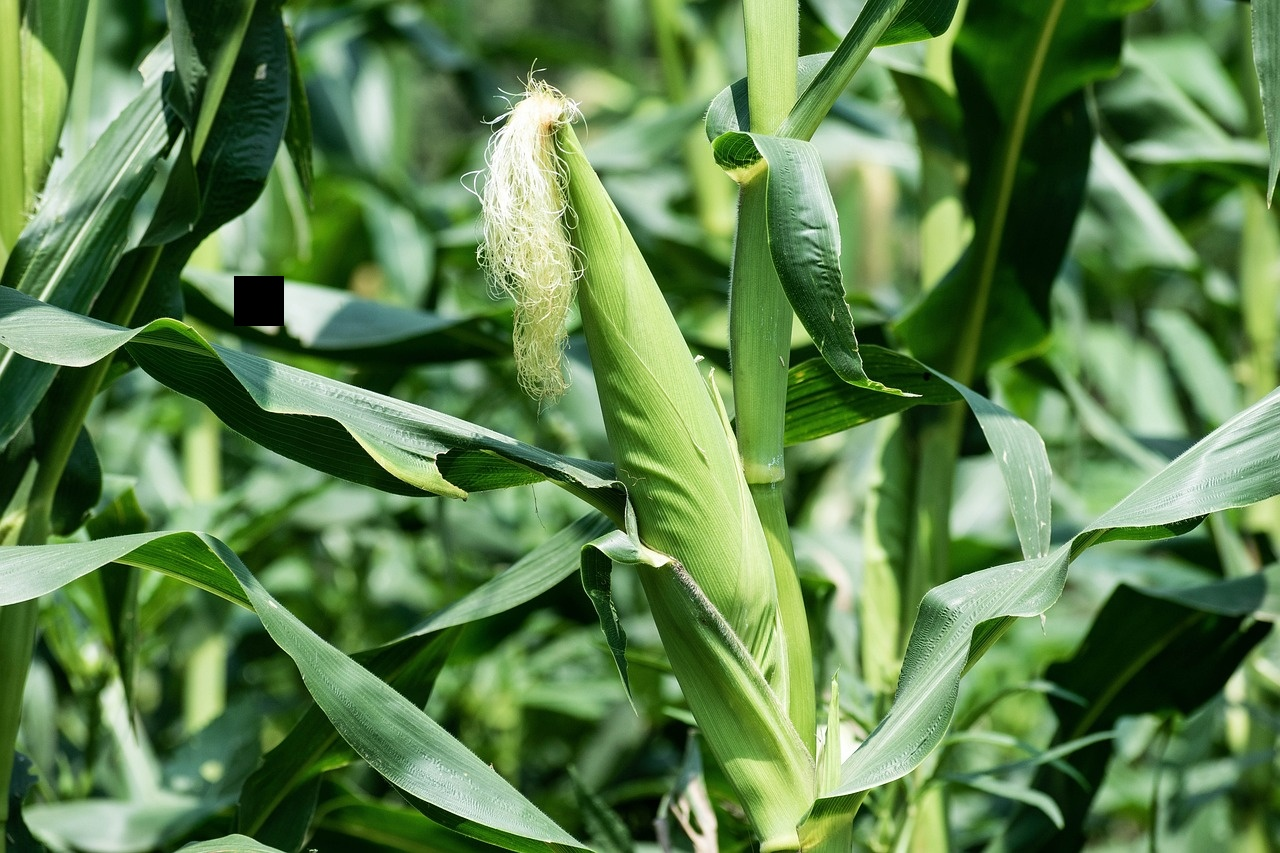corn_plant: (452, 80, 825, 794)
